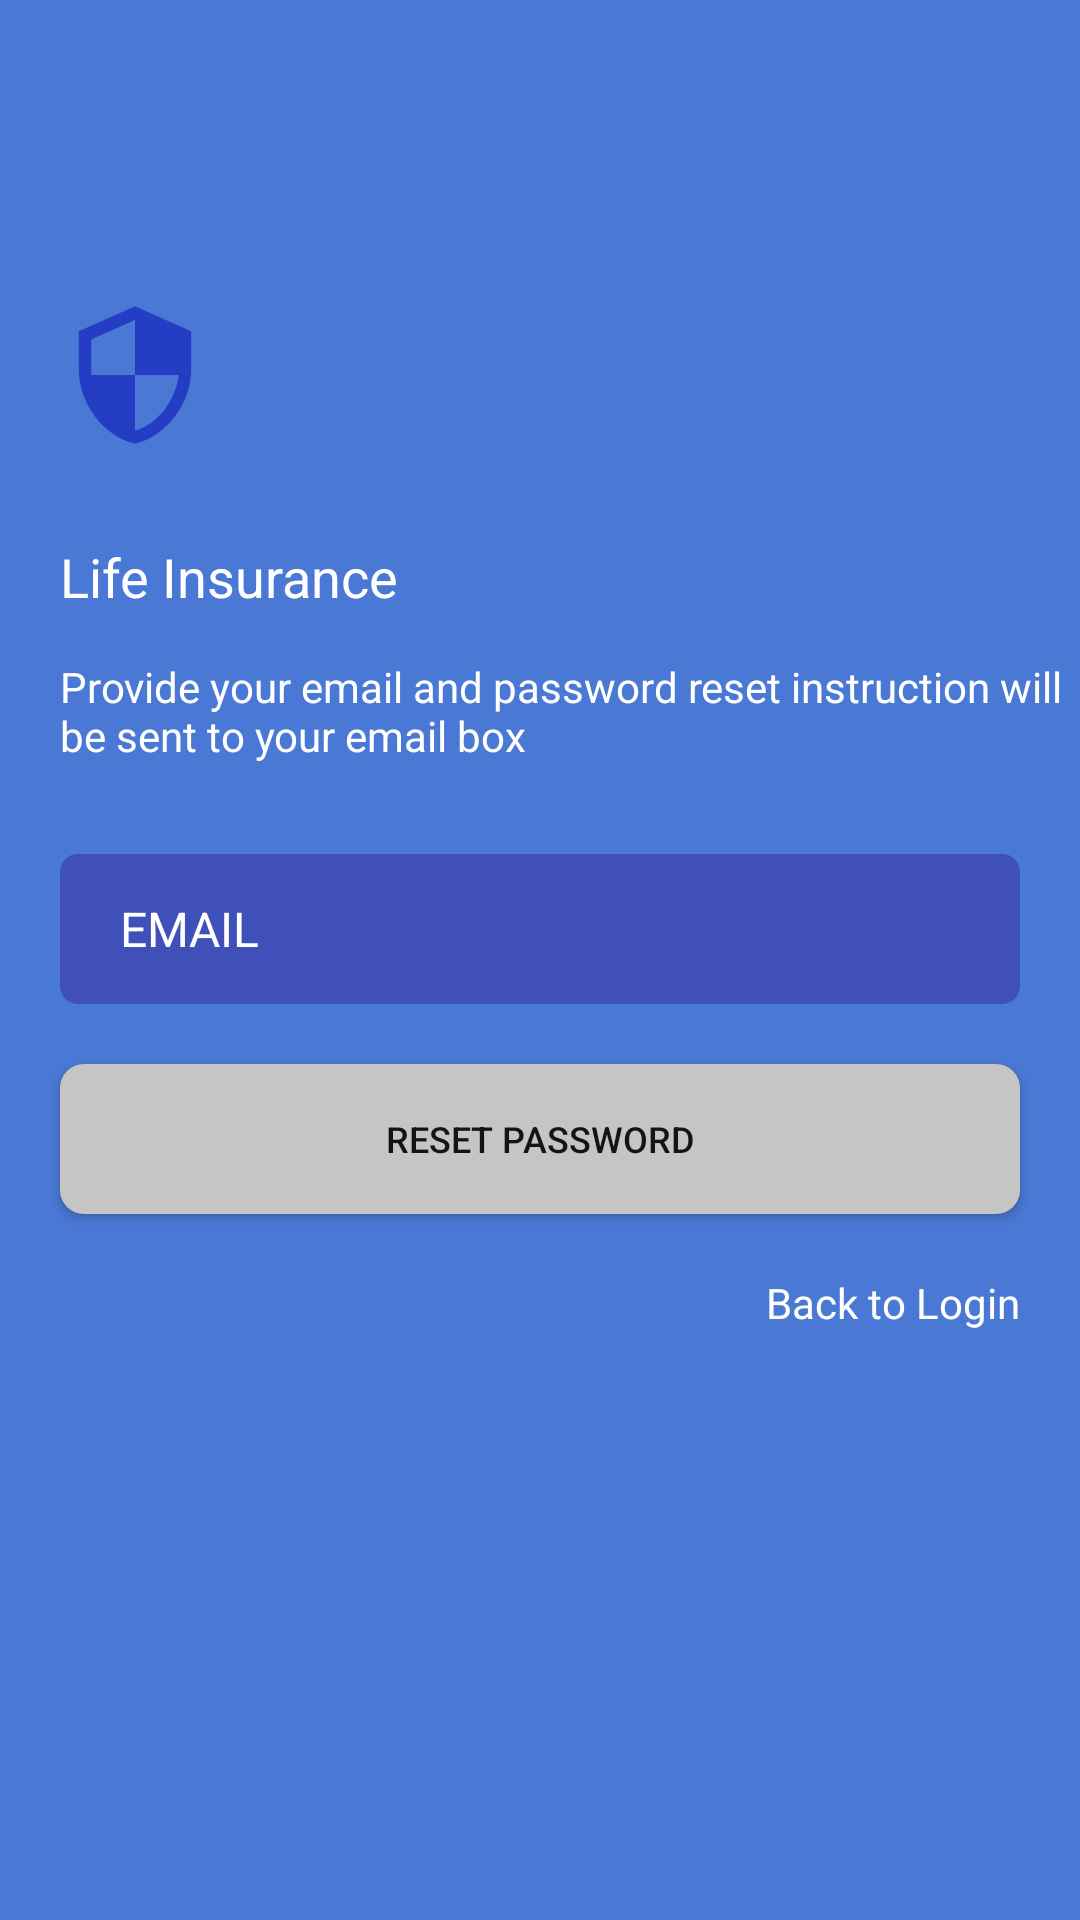

Screen size 1080*1920. Icon name, then its box in pixels as [left=x1, top=y1, right=x2, bottom=y2]:
security: [left=79, top=306, right=191, bottom=444]
